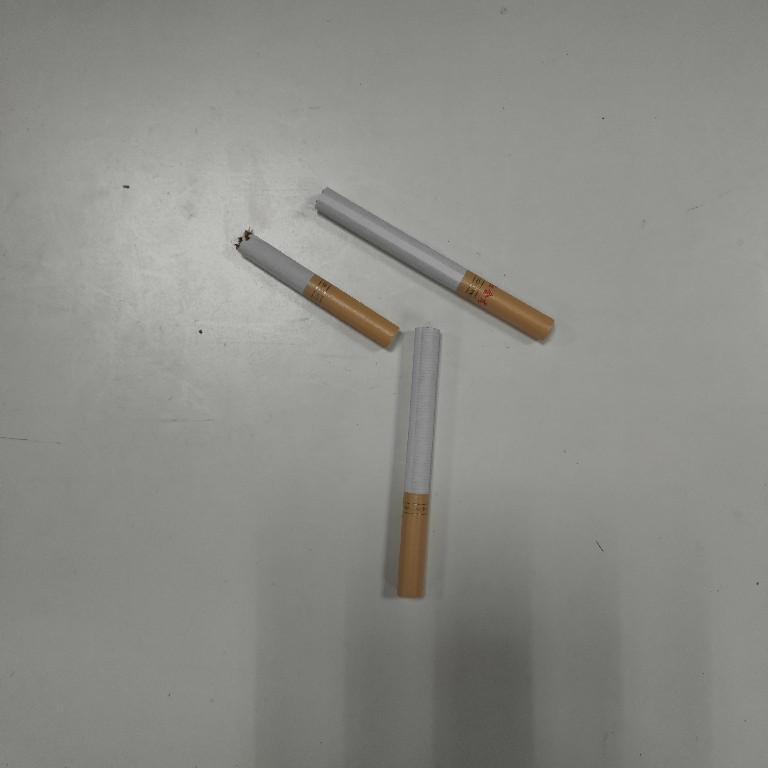cigarette: (312, 183, 560, 348), (233, 227, 407, 352), (392, 323, 443, 600)
